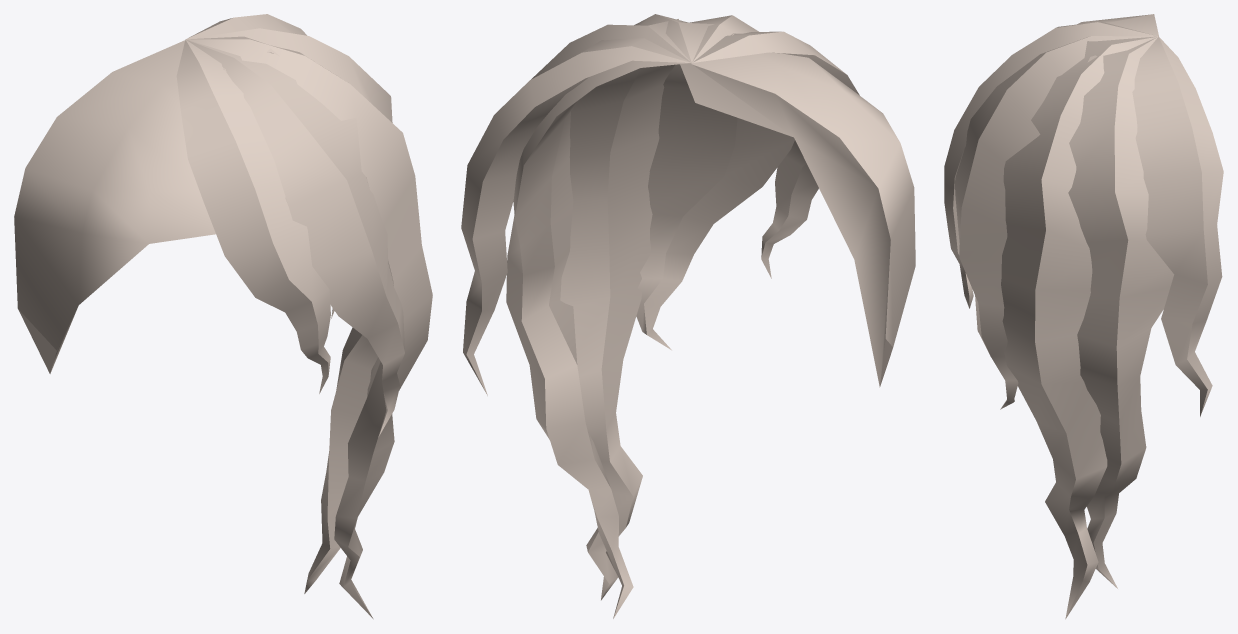
Rendered from Bang.fbx.
3 views of the same model, side by side, from view 1: azimuth 30°, elevation 25°; view 2: azimuth 150°, elevation 25°; view 3: azimuth 270°, elevation 25° (orthographic). The views are drawn at different scales.
Parts seen in each view (by area): view 1: Bang12; view 2: Bang12; view 3: Bang12.
Boxes of the visible parts, box(x1,y1,x2,y2) form: Bang12: box(14, 14, 432, 619); Bang12: box(461, 14, 915, 618); Bang12: box(944, 14, 1223, 619).
Bounding box in the file's own units: 4.43 × 6.59 × 3.14.
